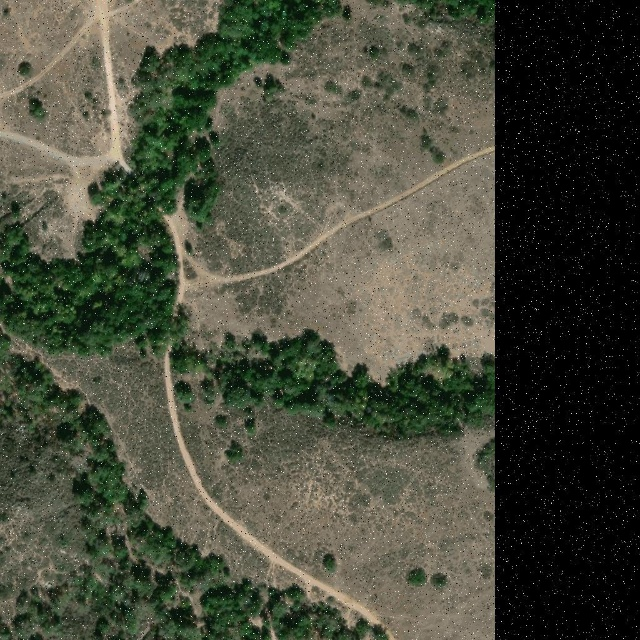vegetation: (0, 0, 349, 359), (0, 329, 391, 640), (165, 303, 499, 503), (363, 0, 496, 39), (404, 566, 451, 594)
